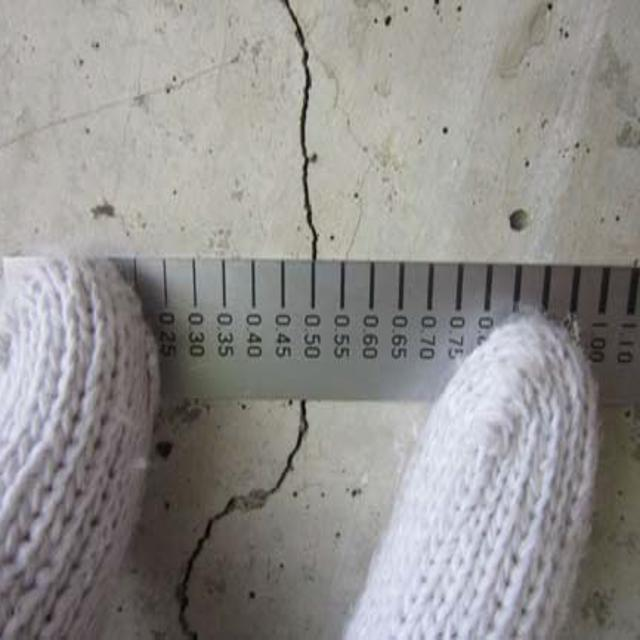crack: (172, 400, 324, 640), (258, 4, 343, 264)
